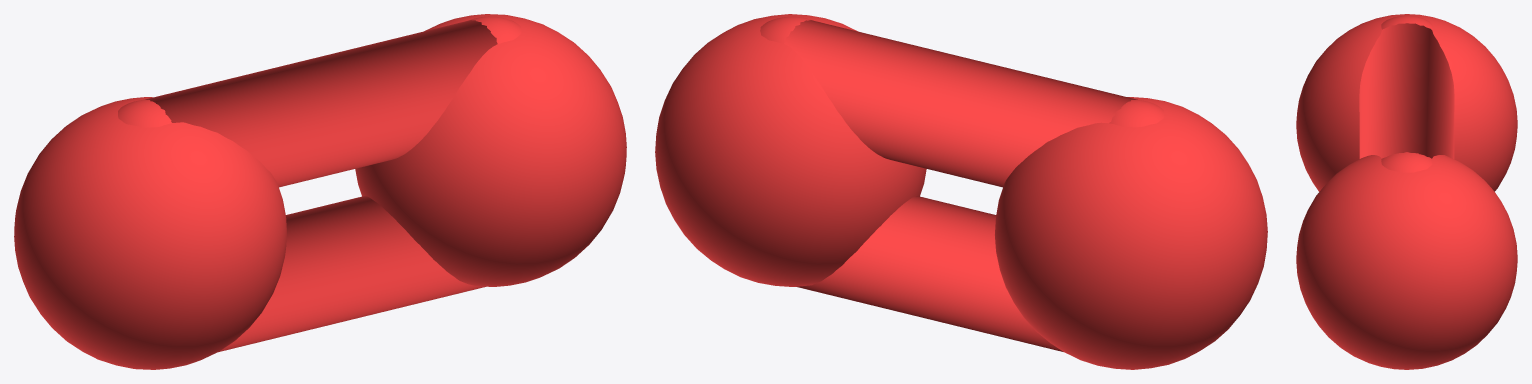
3 renders of one model, left to right at view 1: azimuth 30°, elevation 25°; view 2: azimuth 150°, elevation 25°; view 3: azimuth 270°, elevation 25°, orthographic. The views are drawn at different scales.
Visible parts, largest first — view 1: Molecule:O2; view 2: Molecule:O2; view 3: Molecule:O2.
Part boxes in pixels (x1=…): Molecule:O2: x1=14, y1=14, x2=626, y2=369; Molecule:O2: x1=655, y1=14, x2=1267, y2=369; Molecule:O2: x1=1296, y1=14, x2=1517, y2=369.
Size of the model in its own units: 1.02 by 0.4357 by 0.4194.
